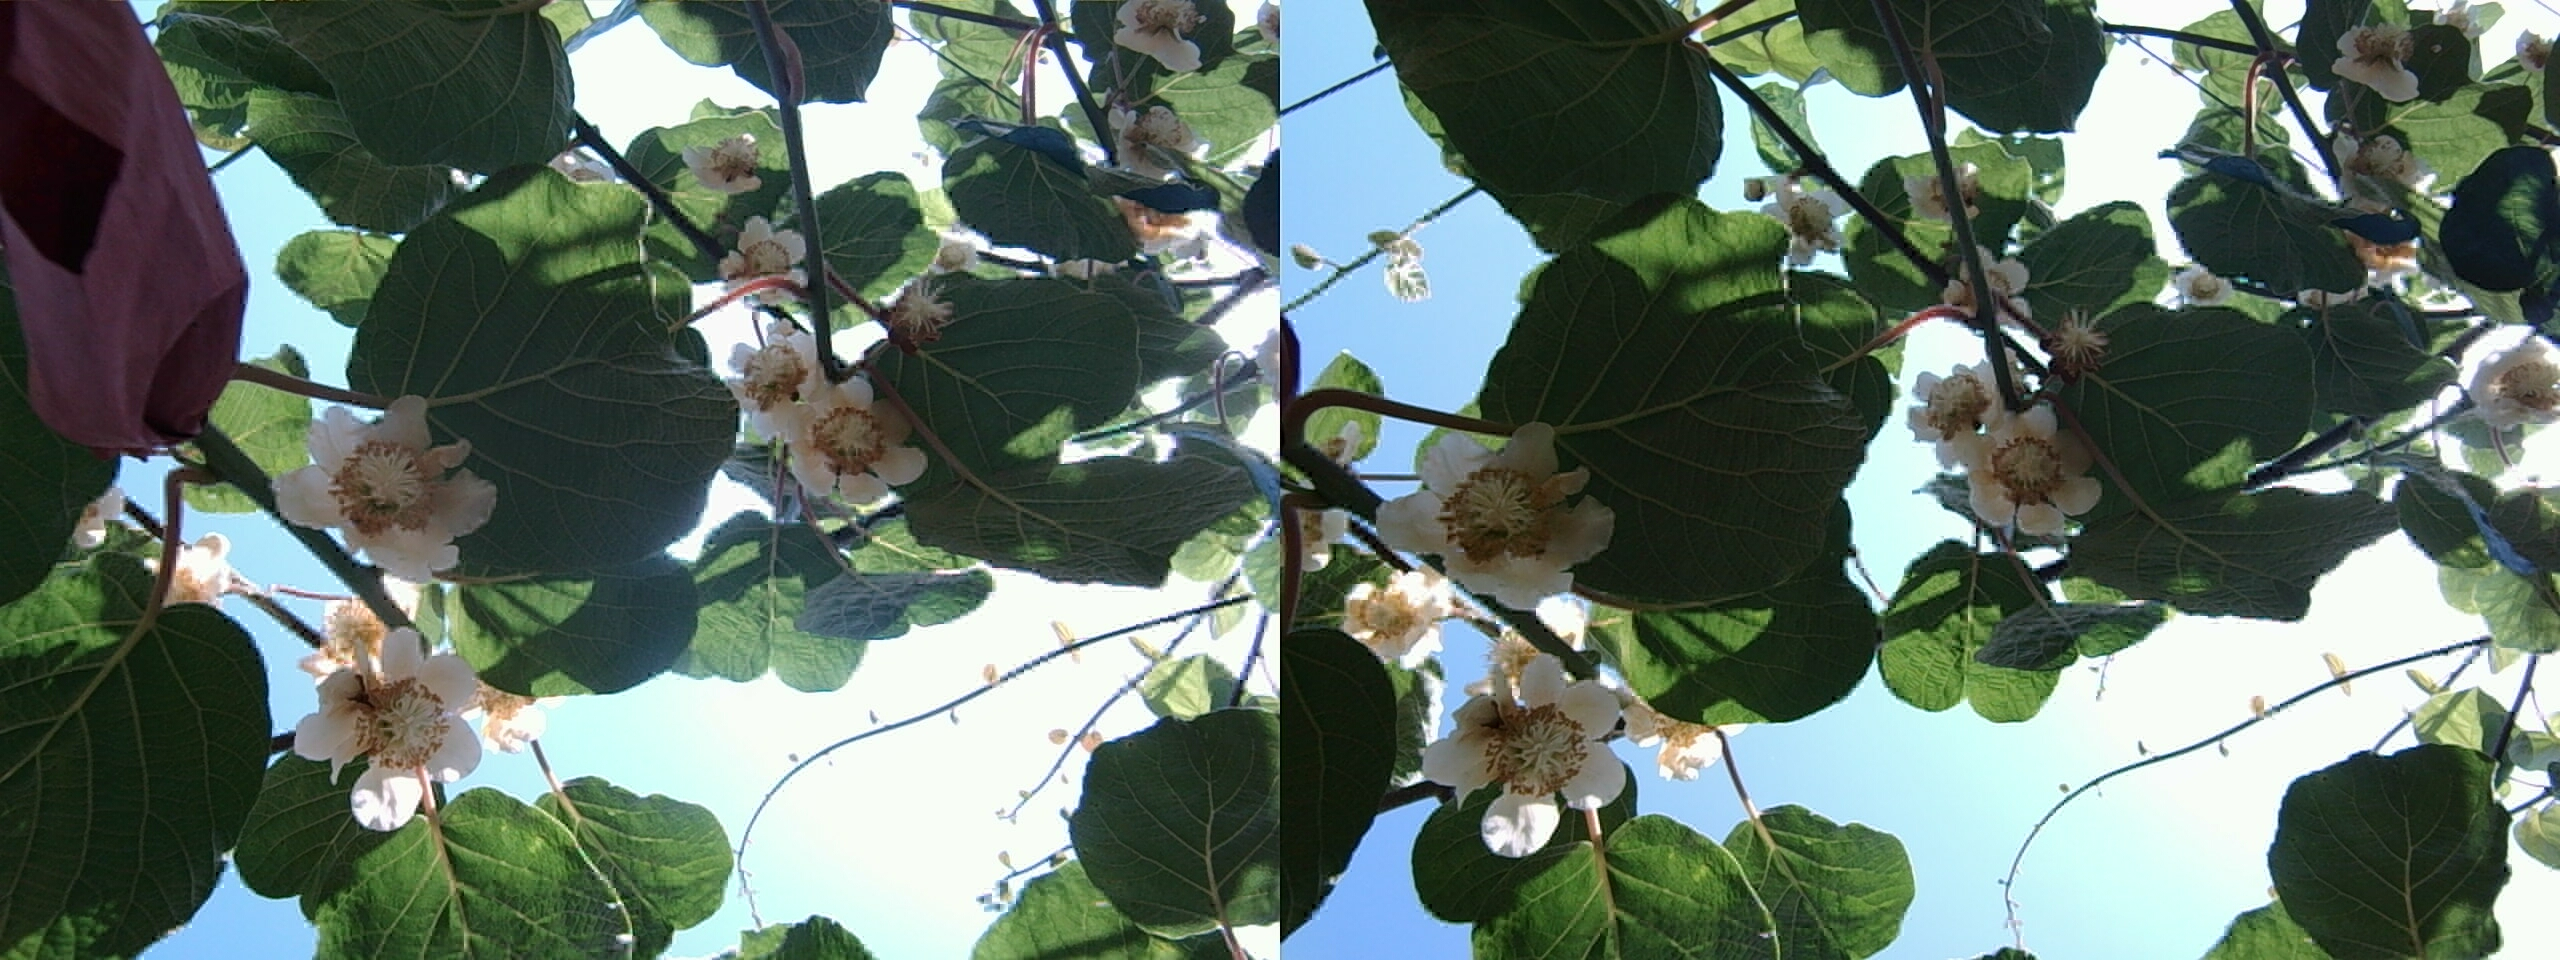flower: (1407, 633, 1647, 842), (281, 607, 493, 811), (1389, 415, 1608, 596), (286, 389, 491, 571), (1910, 371, 2109, 544), (731, 353, 918, 503)
